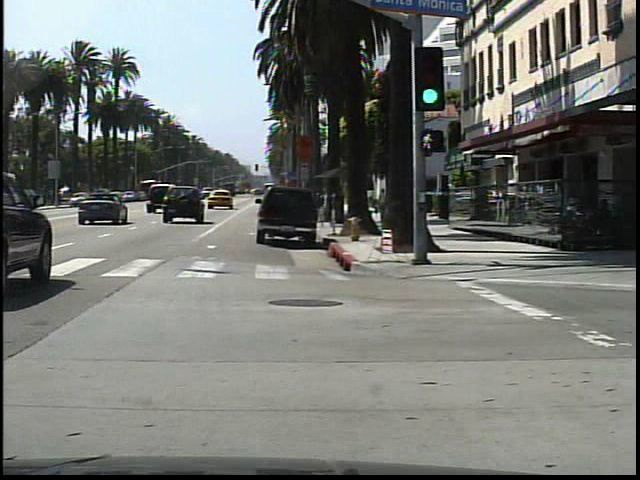person: (377, 185, 389, 227)
